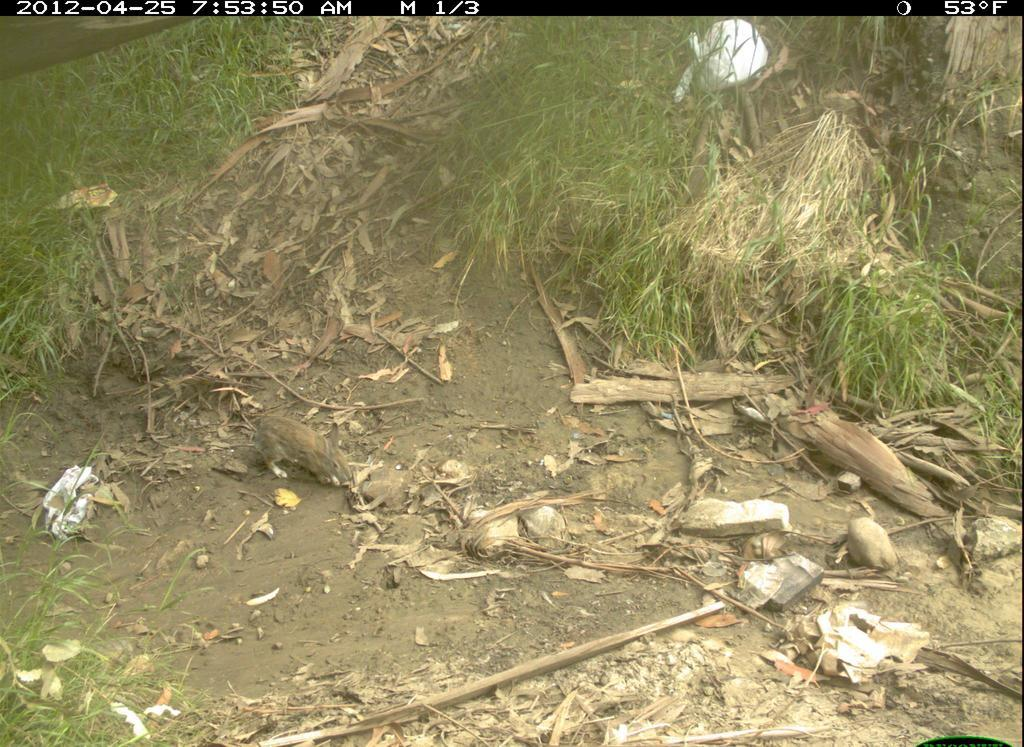rabbit: (253, 402, 363, 495)
